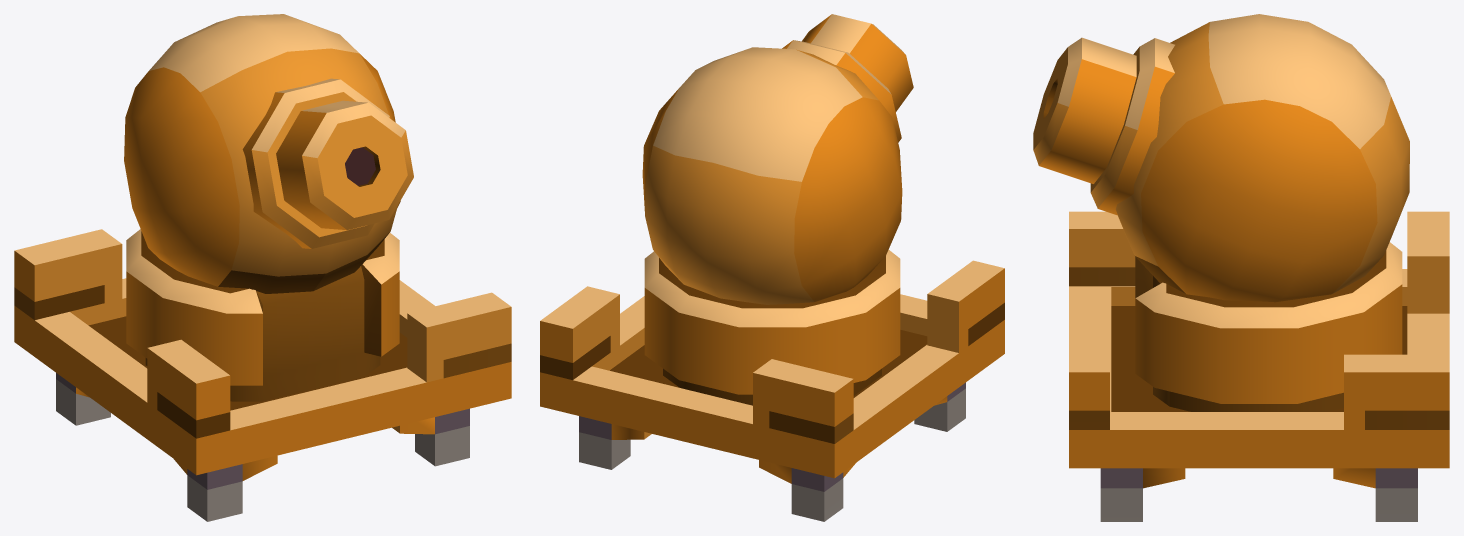
The model's file is PipeRunnerMesh.AmberBlaze.glb.
3 renders of one model, left to right at view 1: azimuth 30°, elevation 25°; view 2: azimuth 150°, elevation 25°; view 3: azimuth 270°, elevation 25°, orthographic. The views are drawn at different scales.
Visible parts, largest first — view 1: PipeRunnerMesh.AmberBlaze; view 2: PipeRunnerMesh.AmberBlaze; view 3: PipeRunnerMesh.AmberBlaze.
Boxes of the visible parts, box(x1,y1,x2,y2) form: PipeRunnerMesh.AmberBlaze: box(14, 14, 511, 521); PipeRunnerMesh.AmberBlaze: box(540, 14, 1004, 521); PipeRunnerMesh.AmberBlaze: box(1033, 14, 1449, 521).
Size of the model in its own units: 1.8 by 2.23 by 1.97.
1 material, 1 textured.
